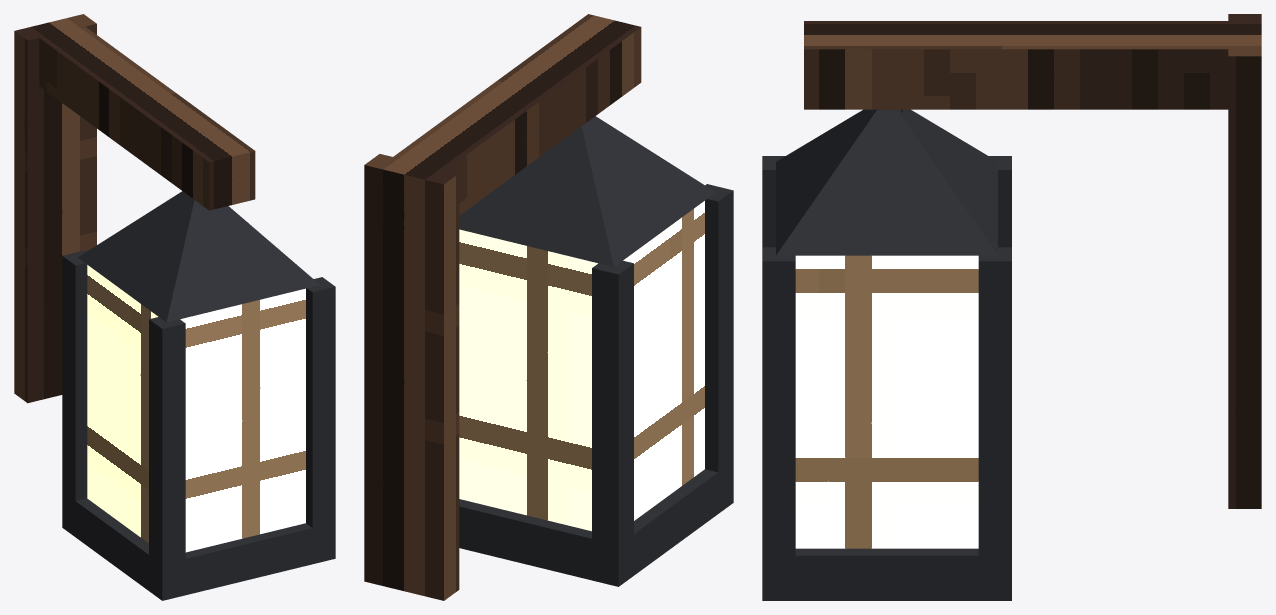
Rendered from JP_Prop_WallLantern_A.glb.
3 renders of one model, left to right at view 1: azimuth 30°, elevation 25°; view 2: azimuth 150°, elevation 25°; view 3: azimuth 270°, elevation 25°, orthographic. The views are drawn at different scales.
Visible parts, largest first — view 1: JP_Prop_WallLantern_A; view 2: JP_Prop_WallLantern_A; view 3: JP_Prop_WallLantern_A.
Boxes of the visible parts, x1,y1,x2,y2 form: JP_Prop_WallLantern_A: [14, 14, 335, 600]; JP_Prop_WallLantern_A: [364, 14, 733, 600]; JP_Prop_WallLantern_A: [762, 14, 1261, 600].
Size of the model in its own units: 0.3 by 0.68 by 0.6.
3 materials, 3 textured.
